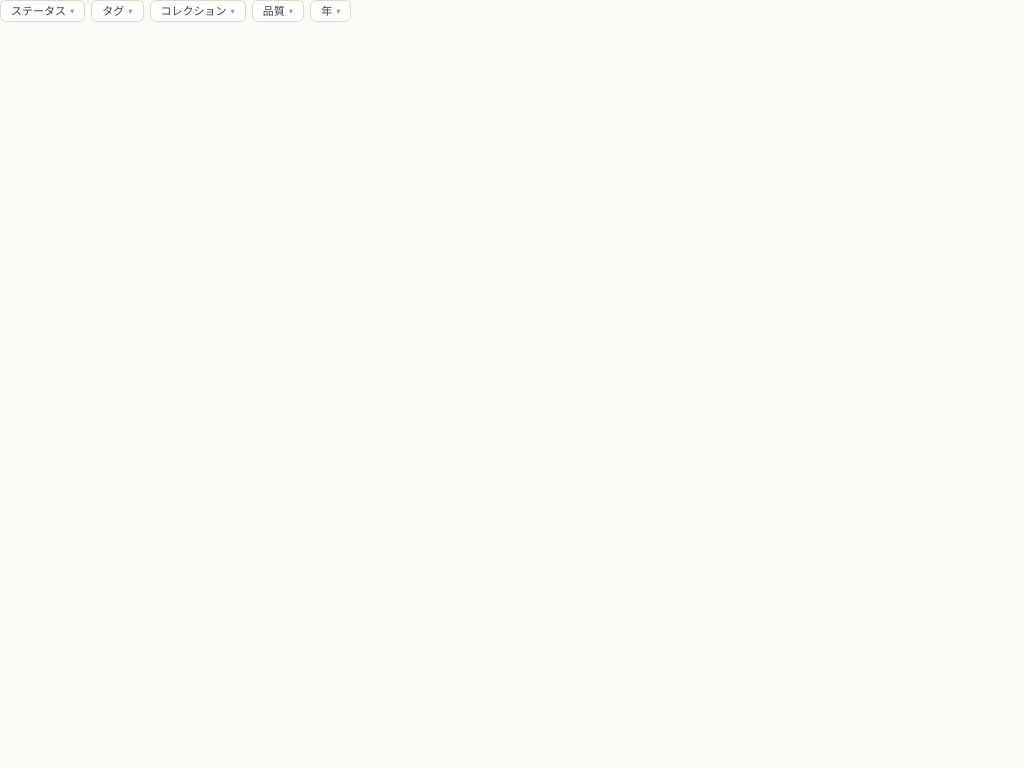
AttributeFilterBar › opening the tag dropdown lists options with facet counts
Click the button "タグ ▾".
click(117, 11)  # box x1=91 y1=0 x2=144 y2=22
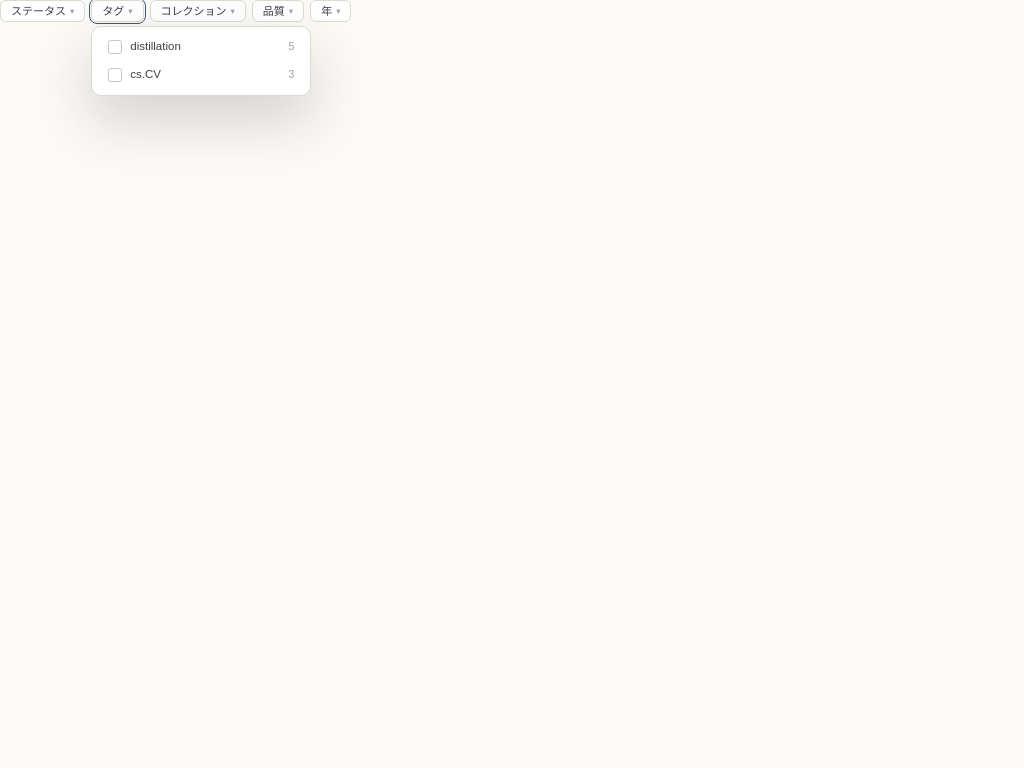
Result: the menu item "distillation 5" is shown at x1=96 y1=33 x2=306 y2=61
Result: the text "5" is shown at x1=288 y1=39 x2=294 y2=55
